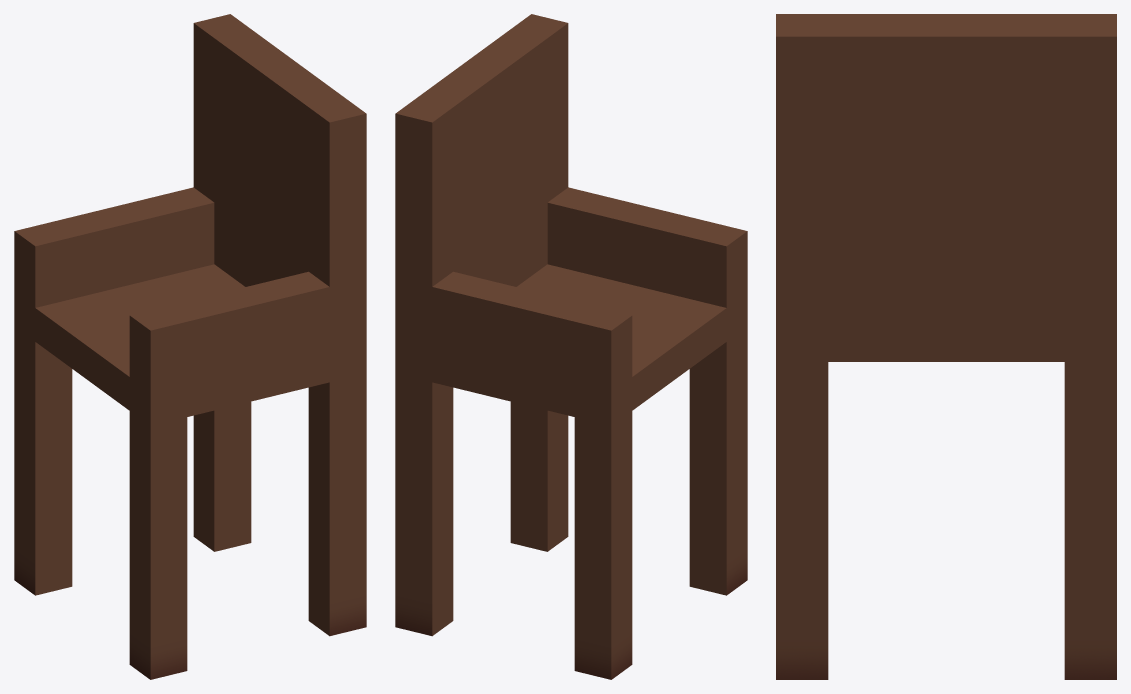
The model's file is Chaise2.fbx.
3 renders of one model, left to right at view 1: azimuth 30°, elevation 25°; view 2: azimuth 150°, elevation 25°; view 3: azimuth 270°, elevation 25°, orthographic. The views are drawn at different scales.
Parts seen in each view (by area): view 1: Chaise2; view 2: Chaise2; view 3: Chaise2.
Part boxes in pixels (box(x1,y1,x2,y2)): Chaise2: box(14, 14, 366, 679); Chaise2: box(395, 14, 747, 679); Chaise2: box(776, 14, 1116, 679).
Bounding box in the file's own units: 0.55 × 1.25 × 0.6.
